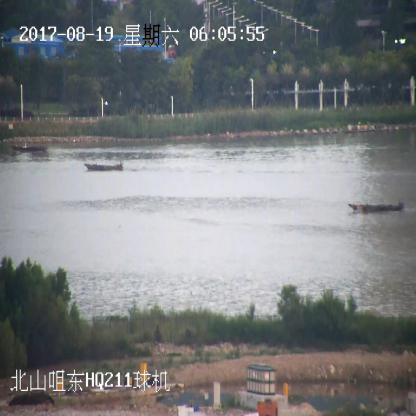Fishing Boat: (347, 197, 403, 213), (85, 159, 123, 173), (12, 142, 46, 152)
